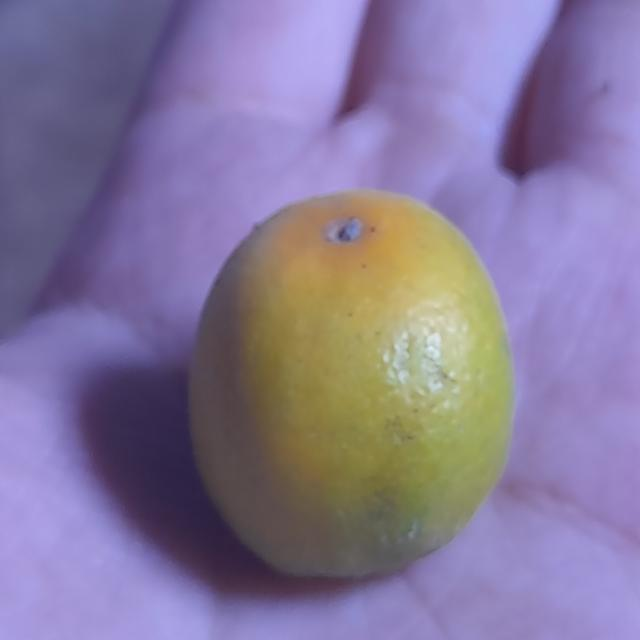greening: (188, 186, 517, 584)
